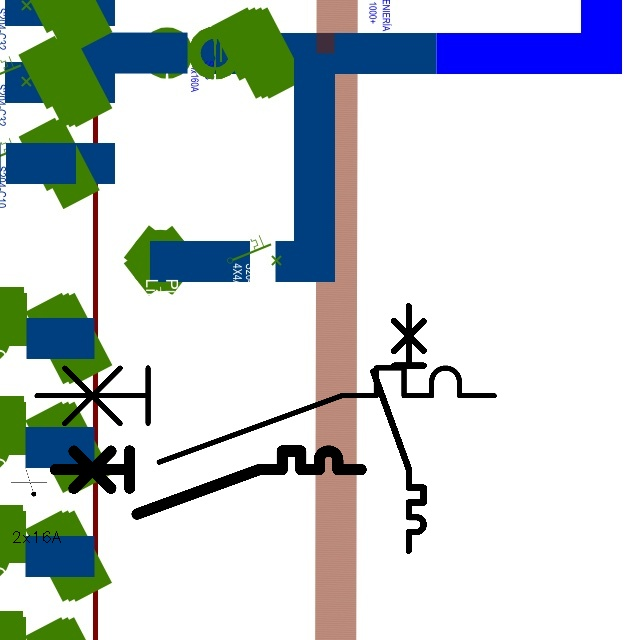interruptor_termomagnetico: (25, 356, 506, 473), (47, 443, 369, 522), (367, 300, 430, 557)
